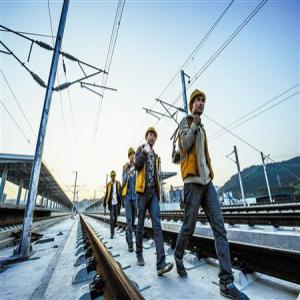yellow: (188, 90, 207, 120), (145, 128, 159, 149), (127, 146, 138, 166), (110, 171, 118, 184)
